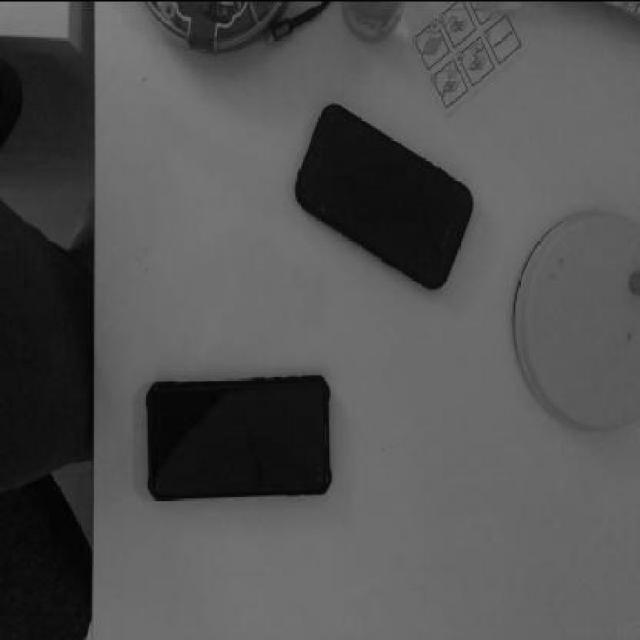fake: (295, 98, 474, 292), (148, 376, 330, 502)
